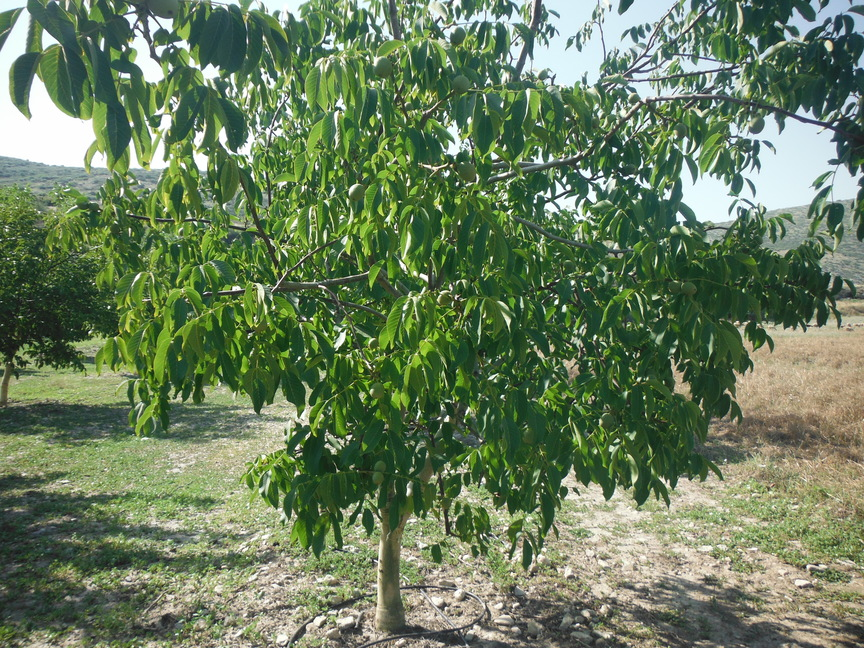walnut: (145, 0, 180, 24), (370, 52, 395, 83), (455, 158, 479, 184), (445, 22, 467, 50), (449, 73, 474, 97), (746, 113, 766, 139), (664, 275, 685, 297), (436, 285, 457, 307), (347, 181, 367, 204), (366, 379, 385, 402), (670, 121, 690, 141), (679, 280, 700, 299), (598, 409, 615, 432), (536, 63, 552, 86), (520, 426, 537, 447), (370, 470, 387, 488), (463, 226, 478, 246), (560, 101, 574, 122), (625, 158, 639, 178), (625, 91, 642, 107), (365, 334, 381, 351), (438, 496, 455, 512), (253, 317, 268, 334), (617, 162, 631, 180), (372, 459, 388, 474), (402, 100, 417, 115), (562, 258, 577, 273), (108, 220, 122, 236), (589, 114, 603, 130), (663, 374, 677, 390), (75, 198, 89, 212), (86, 200, 101, 212), (176, 225, 188, 239), (570, 123, 581, 135), (511, 39, 521, 49), (680, 44, 688, 54), (211, 193, 218, 203), (271, 125, 279, 131)
